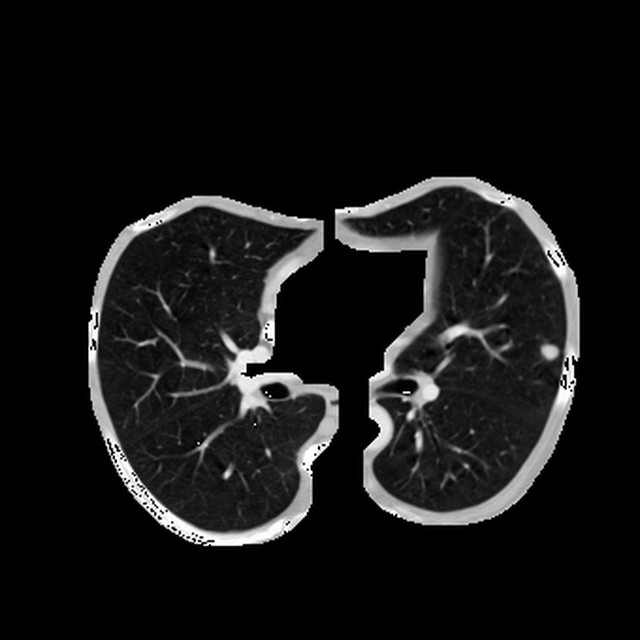PN: (540, 343, 559, 361)
